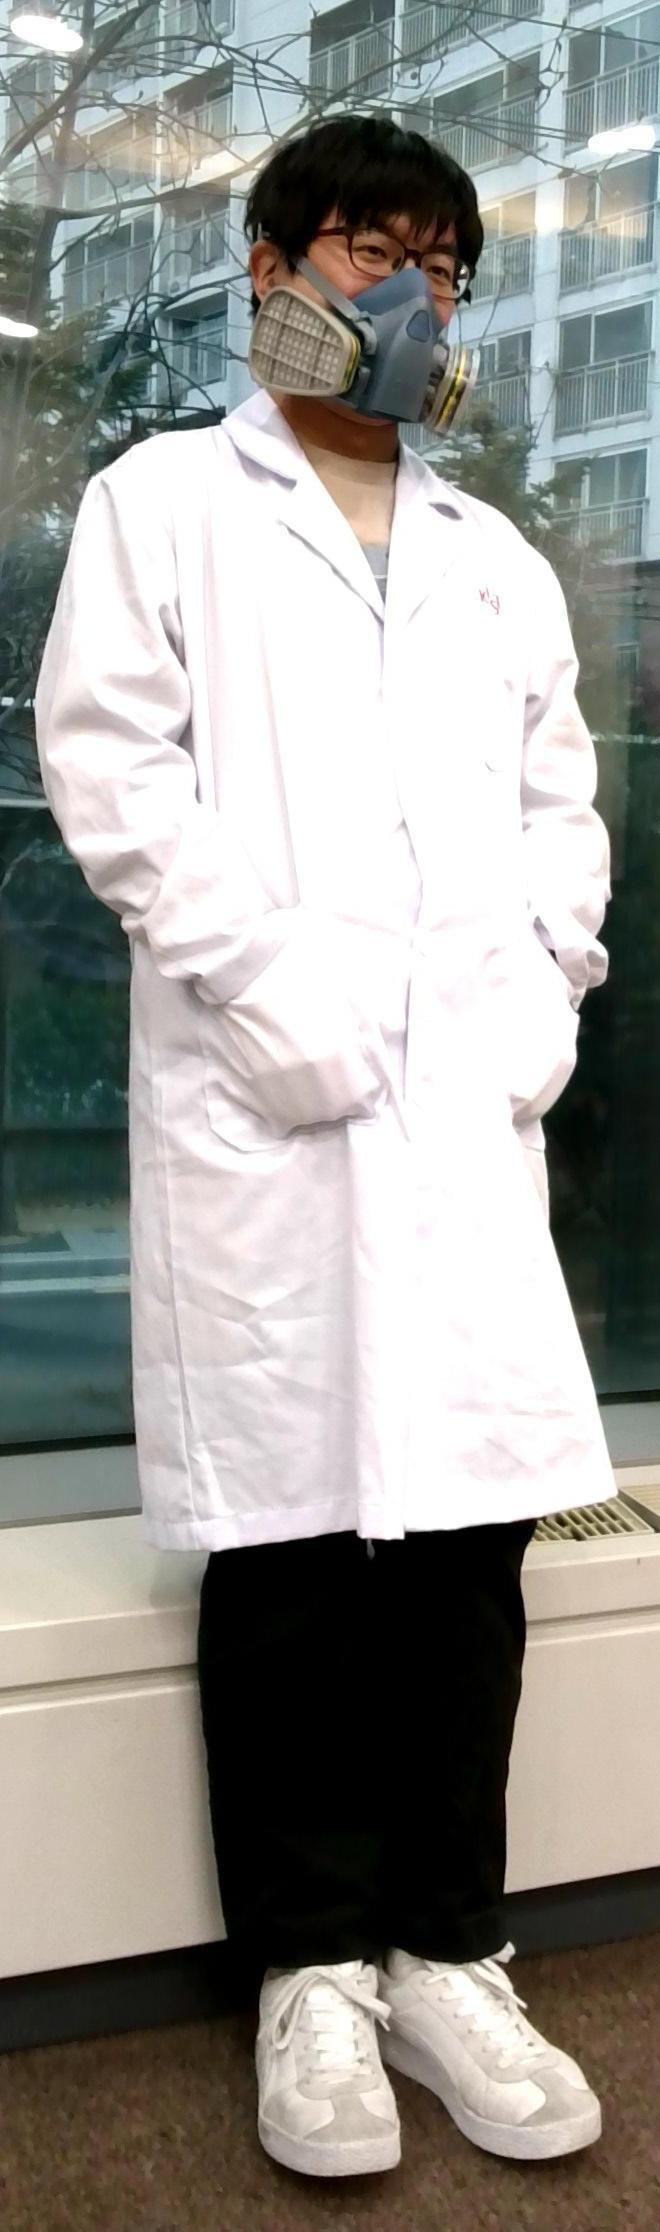lab_coat: (41, 428, 660, 1544)
